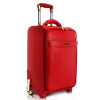luggage: (23, 0, 80, 100)
